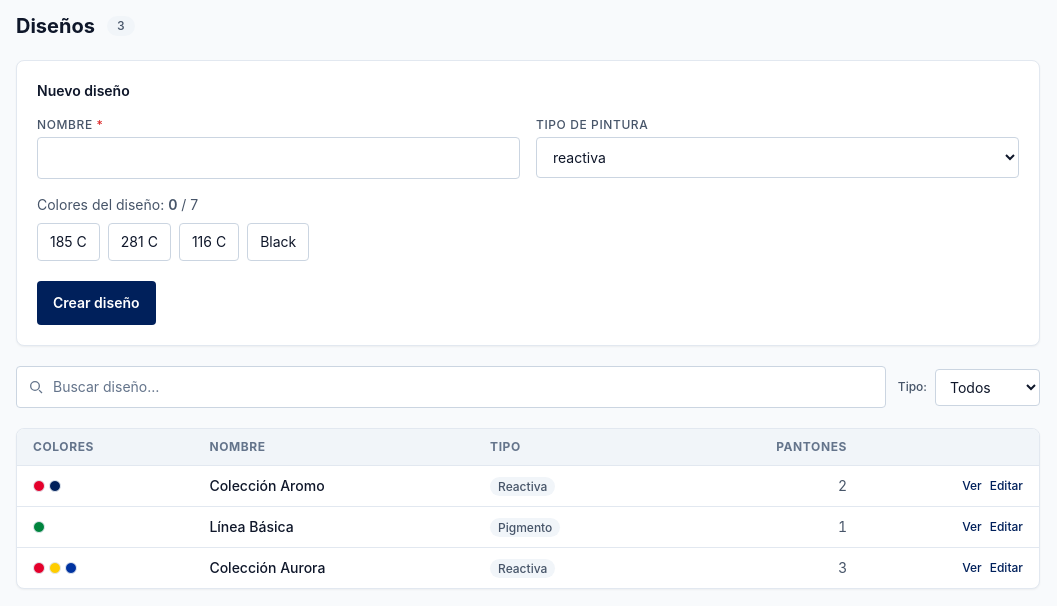
Test: DesignsPage › shows no-results state when search matches nothing
Type "ZZZZ" into the search field with placeholder "Buscar diseño…" at point(451, 387), box [16,366,886,408]
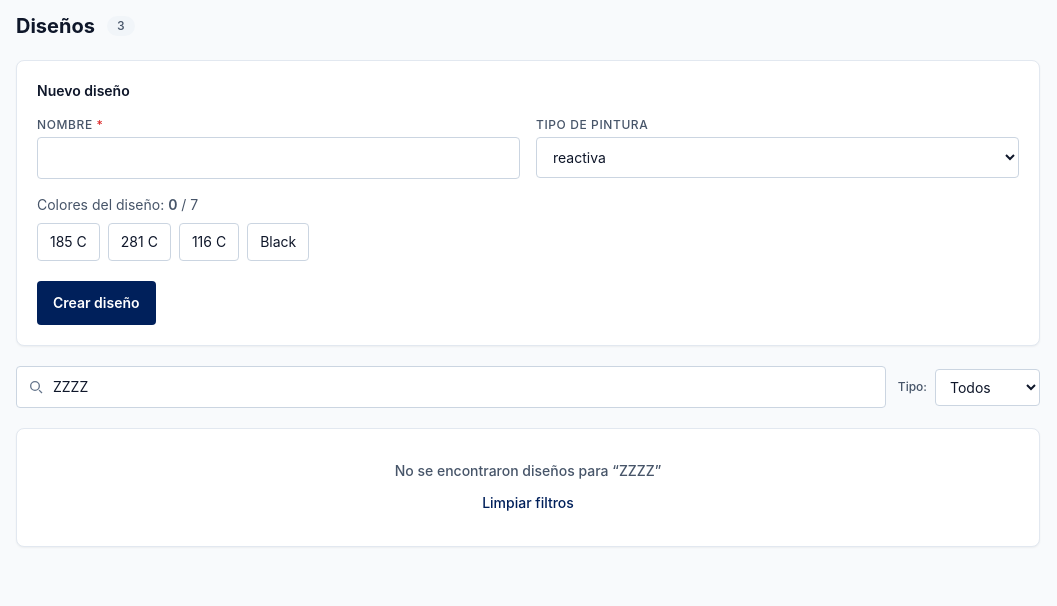
Expected: the text "No se encontraron diseños para “ZZZZ”" is shown, [395,462,661,479]
Expected: the button "Limpiar filtros" is shown, [482,493,574,513]
